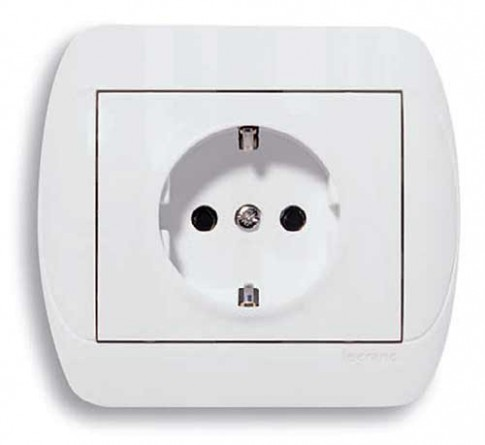raccoon: (157, 119, 340, 311)
